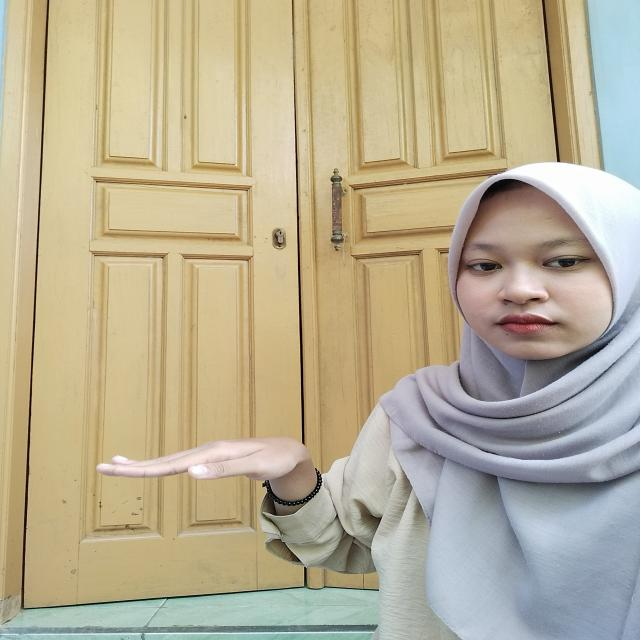adik: (83, 425, 338, 522)
